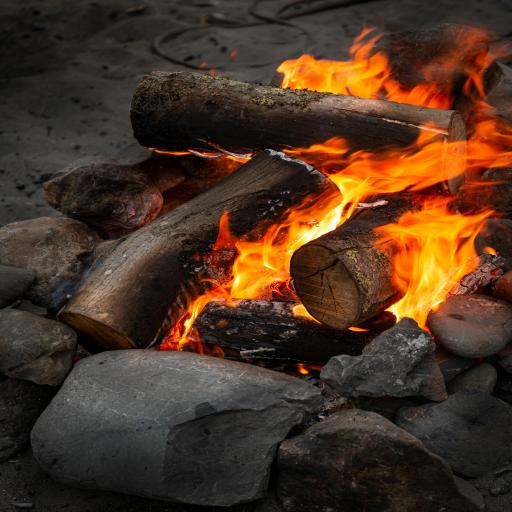campfire: (172, 12, 512, 371)
